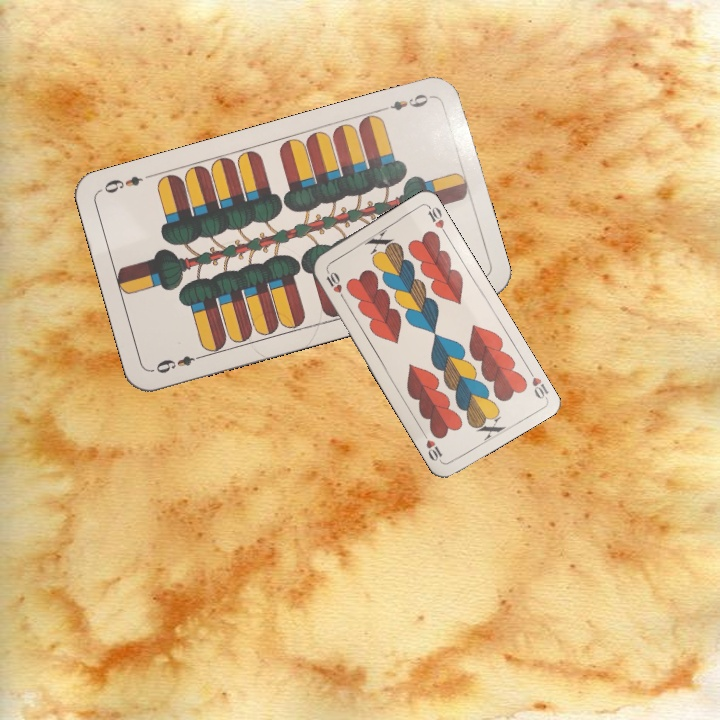E9: (149, 350, 207, 376), (377, 90, 435, 114)
H10: (523, 364, 551, 402), (322, 265, 347, 303)
